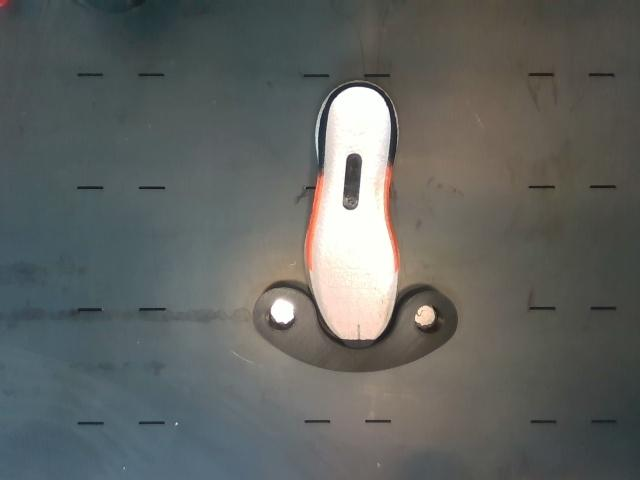shoes: (312, 87, 395, 347)
